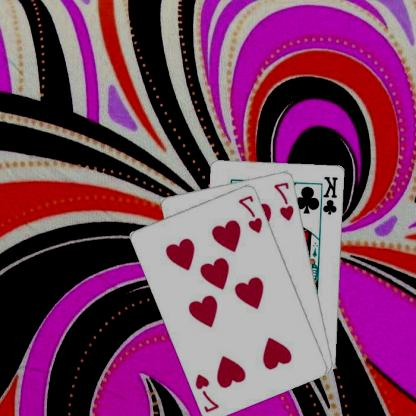7H: (195, 370, 223, 414), (238, 192, 266, 234), (274, 179, 298, 222)
KC: (318, 174, 340, 219)
